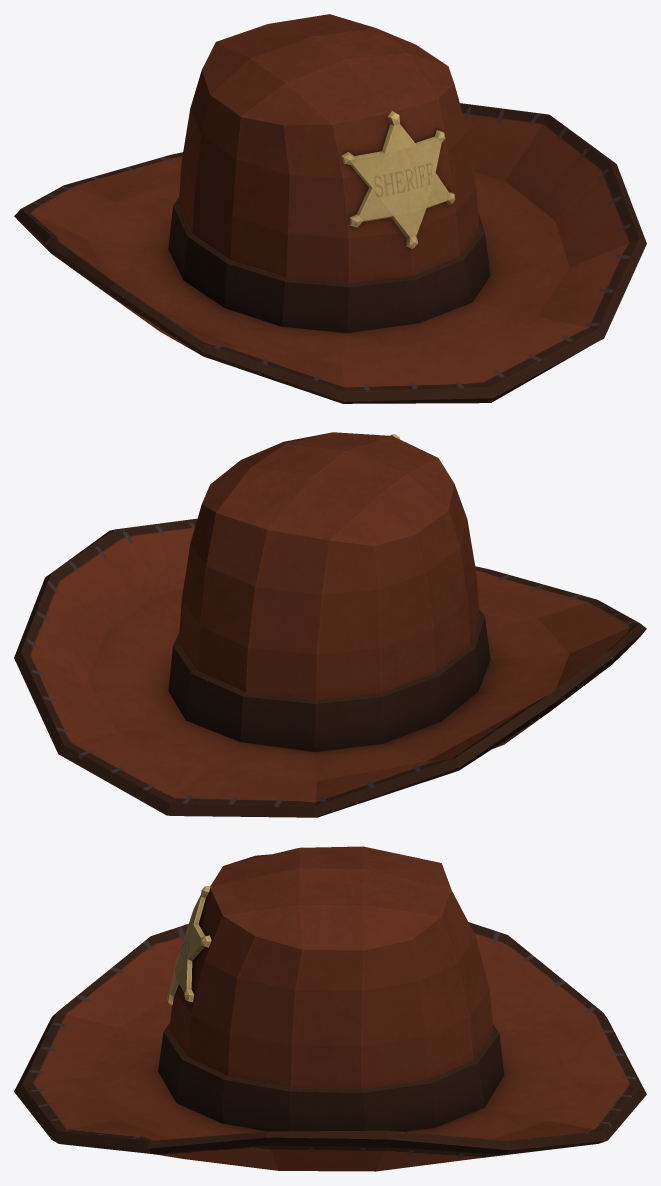
Rendered from SheriffHat.glb.
3 renders of one model, top to bottom at view 1: azimuth 30°, elevation 25°; view 2: azimuth 150°, elevation 25°; view 3: azimuth 270°, elevation 25°, orthographic. The views are drawn at different scales.
Parts seen in each view (by area): view 1: SheriffHat_Mesh; view 2: SheriffHat_Mesh; view 3: SheriffHat_Mesh.
Boxes of the visible parts, <box> form: SheriffHat_Mesh: <box>14,14,646,403</box>; SheriffHat_Mesh: <box>14,432,646,817</box>; SheriffHat_Mesh: <box>14,846,646,1171</box>.
Size of the model in its own units: 3.61 by 1.61 by 4.01.
Materials: 1 (1 with a texture image).
